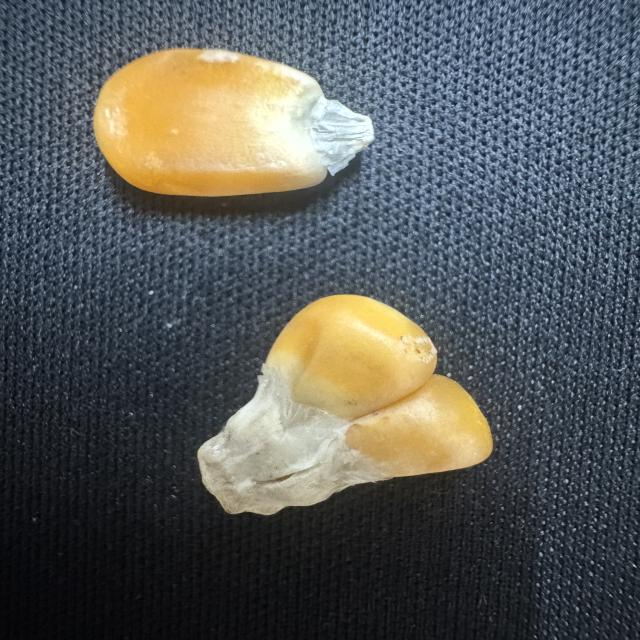Bad-Seed: (200, 283, 500, 538)
Good-Seed: (85, 39, 387, 208)
